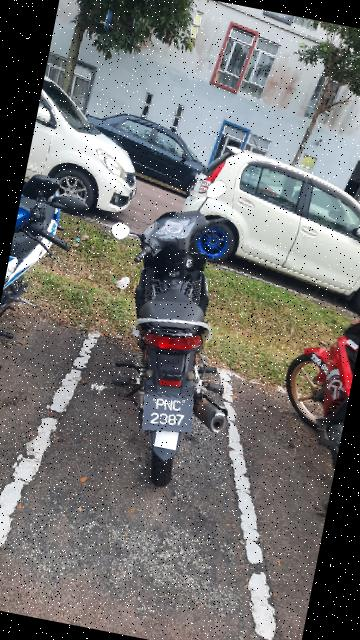License_Plate: (134, 386, 205, 443)
motorcycle: (61, 145, 286, 506)
